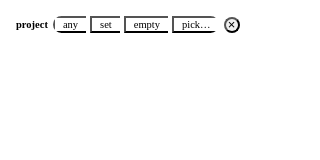
Test: TC-3: picking a node calls onSetChip(field, { exists: null, target: { id, title } }) › fires onSetChip with the picked node's id and title
Later steps or results of the test are not shown.
Step 1. Click the button "pick…" → (195, 24), box [172,16,219,33]
Wait 300 ms
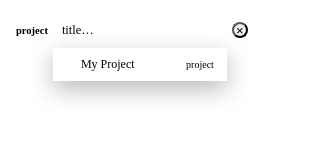
Result: the text "My Project" is shown at [81,57,135,71]
